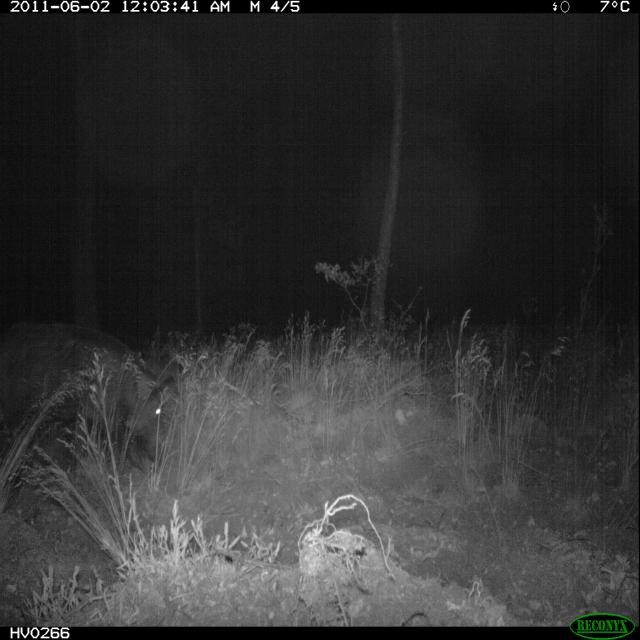boar: (99, 340, 170, 478)
